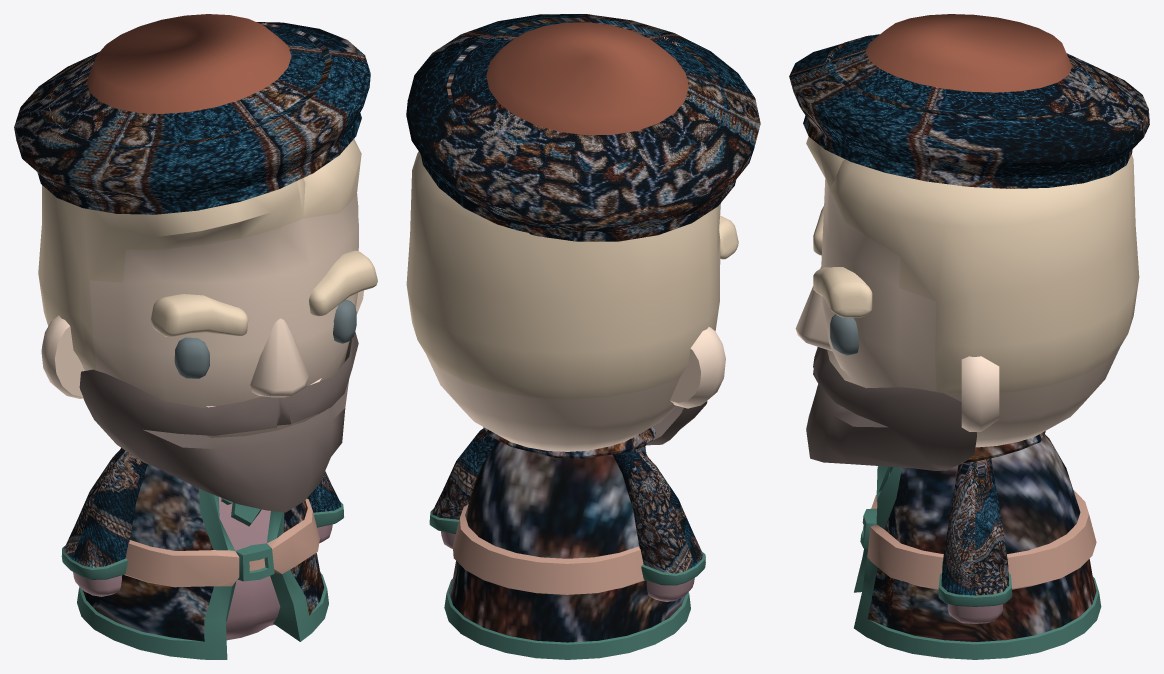
Rendered from Merchant.fbx.
3 renders of one model, left to right at view 1: azimuth 30°, elevation 25°; view 2: azimuth 150°, elevation 25°; view 3: azimuth 270°, elevation 25°, orthographic. The views are drawn at different scales.
Visible parts, largest first — view 1: character_knightHead, character_mageHat, character_mage, Beard, character_mageArmRight, character_mageArnLeft; view 2: character_mageHat, character_knightHead, character_mage, character_mageArmRight, character_mageArnLeft, Beard; view 3: character_knightHead, character_mageHat, character_mage, Beard, character_mageArnLeft.
Part boxes in pixels (x1,y1,x2,y2): character_knightHead: (38,139,377,437); character_mageHat: (14,14,370,214); character_mage: (77,464,328,659); Beard: (79,332,358,512); character_mageArmRight: (61,448,147,596); character_mageArnLeft: (307,471,343,543); character_mageHat: (406,14,760,241); character_knightHead: (406,151,738,451); character_mage: (444,427,690,659); character_mageArmRight: (613,448,705,601); character_mageArnLeft: (429,428,497,548); Beard: (647,401,707,445); character_knightHead: (795,136,1139,447); character_mageHat: (789,14,1149,188); character_mage: (854,431,1101,659); Beard: (806,347,976,470); character_mageArnLeft: (938,458,1012,623).
Bounding box in the file's own units: 1.21 × 2.04 × 1.16.
